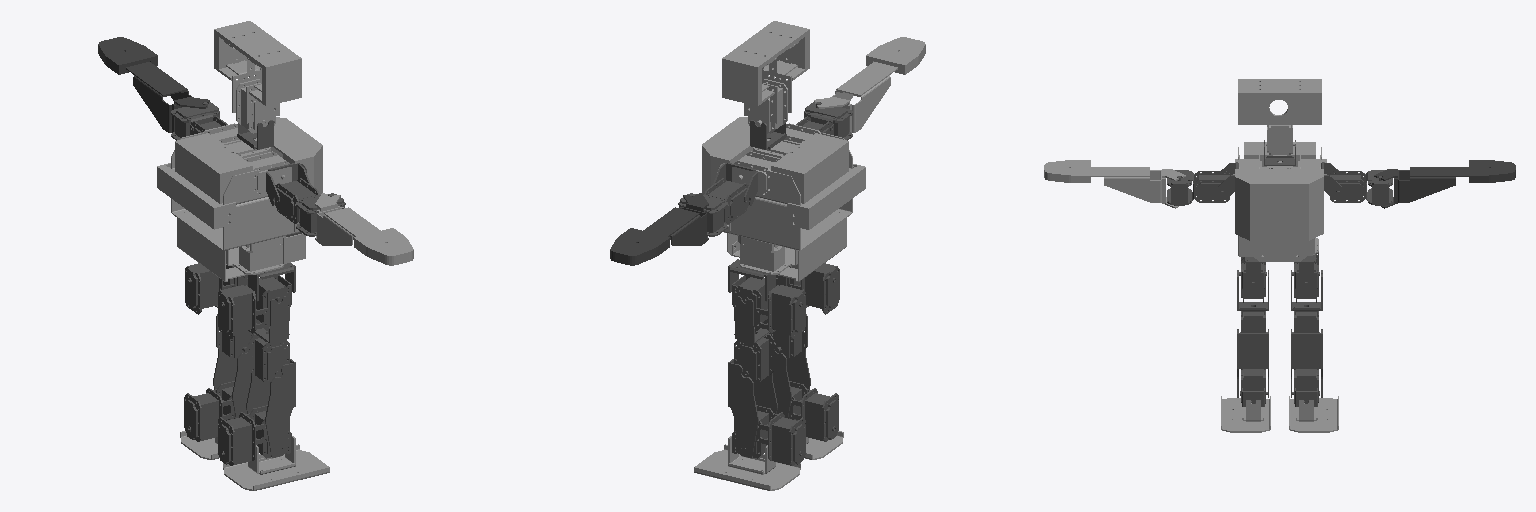
--- Render facts (derived) ---
The picture shows the robot from 3 angles, left to right: view 1: azimuth 30°, elevation 25°; view 2: azimuth 150°, elevation 25°; view 3: azimuth 270°, elevation 25°; orthographic projection.
Robot: darwin — 22 links, 21 joints (20 revolute, 1 fixed); root link base_link; default pose: every joint at zero.
Links seen in each view (by area): view 1: body, head, leftArmLower, rightArmLower, rightPelvis, rightFoot, rightAnkle, rightTibia, rightThigh, leftAnkle, rightArmUpper, leftPelvis (+7 smaller); view 2: body, head, rightArmLower, leftArmLower, leftPelvis, leftFoot, leftAnkle, leftTibia, leftThigh, rightAnkle, leftArmUpper, rightPelvis (+7 smaller); view 3: body, head, leftArmLower, rightArmLower, leftArmUpper, rightArmUpper, leftFoot, rightFoot, leftTibia, rightTibia, leftThigh, rightThigh (+4 smaller).
Boxes of the visible links, left/top/right/bottom form: body: left=157, top=117, right=322, bottom=281; head: left=214, top=21, right=301, bottom=133; leftArmLower: left=98, top=37, right=209, bottom=132; rightArmLower: left=315, top=193, right=413, bottom=265; rightPelvis: left=218, top=275, right=291, bottom=338; rightFoot: left=223, top=436, right=329, bottom=490; rightAnkle: left=218, top=405, right=291, bottom=465; rightTibia: left=246, top=359, right=295, bottom=452; rightThigh: left=250, top=296, right=289, bottom=383; leftAnkle: left=184, top=381, right=235, bottom=441; rightArmUpper: left=275, top=178, right=345, bottom=236; leftPelvis: left=185, top=263, right=247, bottom=314; body: left=702, top=117, right=865, bottom=281; head: left=722, top=21, right=809, bottom=133; rightArmLower: left=814, top=37, right=925, bottom=132; leftArmLower: left=610, top=193, right=708, bottom=265; leftPelvis: left=732, top=275, right=805, bottom=338; leftFoot: left=694, top=436, right=800, bottom=490; leftAnkle: left=732, top=405, right=805, bottom=465; leftTibia: left=728, top=359, right=777, bottom=452; leftThigh: left=734, top=296, right=773, bottom=383; rightAnkle: left=788, top=381, right=838, bottom=441; leftArmUpper: left=678, top=178, right=748, bottom=236; rightPelvis: left=776, top=263, right=839, bottom=314; body: left=1233, top=142, right=1326, bottom=261; head: left=1238, top=79, right=1321, bottom=154; leftArmLower: left=1374, top=160, right=1515, bottom=208; rightArmLower: left=1044, top=160, right=1185, bottom=208; leftArmUpper: left=1330, top=170, right=1392, bottom=205; rightArmUpper: left=1167, top=170, right=1229, bottom=205; leftFoot: left=1289, top=396, right=1338, bottom=432; rightFoot: left=1221, top=396, right=1270, bottom=432; leftTibia: left=1291, top=329, right=1322, bottom=397; rightTibia: left=1237, top=329, right=1268, bottom=397; leftThigh: left=1291, top=270, right=1322, bottom=332; rightThigh: left=1237, top=270, right=1268, bottom=332.
Size in the robot's own frame: 0.1551 by 0.665 by 0.5147 metres.
21 mesh visuals loaded from 21 distinct referenced files (21 Collada DAE).

robot.urdf — darwin:
<?xml version="1.0" ?>
<robot name="darwin">
<self_collide value="false" />

  <link name="base_link"/>
  
  <joint name="base_link_to_body" type="fixed">
    <parent link="base_link"/>
    <child link="body"/>
  </joint>

<link name="body">
<inertial>
<origin xyz="-0.0529 -0.01689 0.00113" />
<mass value="1.2687" />
<inertia ixx="0.00533164" ixy="0.00203182" ixz="0.000164179" iyy="0.00310818" iyz="-0.000254602" izz="0.00637878" />
</inertial>
<visual>
<origin xyz="0 0 0" rpy="0 0 0" />
<geometry>
<mesh filename="./meshes/chape/body.dae" scale="1 1 1" />
</geometry>
</visual>
<collision>
<origin xyz="-0.0295 0 -0.00185" />
<geometry>
<box size="0.083 0.1095 0.0393" />
</geometry>
</collision>
<collision>
<origin xyz="-0.0235 0 -0.03585" />
<geometry>
<box size="0.102 0.1022 0.0287" />
</geometry>
</collision>
<collision>
<origin xyz="-0.0208 0 -0.06908" />
<geometry>
<box size="0.0966 0.0992 0.03775" />
</geometry>
</collision>
</link>

<link name="neck">
<inertial>
<origin xyz="-0.000712811 0.00142428 0.0124324" />
<mass value="0.0243577" />
<inertia ixx="1.13798e-05" ixy="-2.4729e-08" ixz="-1.92231e-07" iyy="5.14111e-06" iyz="-5.75303e-07" izz="8.19157e-06" />
</inertial>
<visual>
<origin xyz="0 0 0.029" rpy="0 0 0" />
<geometry>
<mesh filename="./meshes/chape/neck.dae" scale="1 1 1" />
</geometry>
</visual>
<collision>
<origin xyz="0 0 0.01525" />
<geometry>
<box size="0.022 0.045 0.0325" />
</geometry>
</collision>
</link>

<link name="head">
<inertial>
<origin xyz="0.00766662 6.39198e-05 0.0185645" />
<mass value="0.158042" />
<inertia ixx="0.000115836" ixy="-7.64598e-08" ixz="1.21992e-05" iyy="0.000123968" iyz="7.84944e-07" izz="0.000117838" />
</inertial>
<visual>
<origin xyz="0 0 0" rpy="0 0 0" />
<geometry>
<mesh filename="./meshes/chape/head.dae" scale="1 1 1" />
</geometry>
</visual>
<collision>
<origin xyz="0 0 0.0105" />
<geometry>
<box size="0.0356 0.0355 0.045" />
</geometry>
</collision>
<collision>
<origin xyz="0 0 0.0662" />
<geometry>
<box size="0.0428 0.098 0.049" />
</geometry>
</collision>
</link>

<link name="leftShoulder">
<inertial>
<origin xyz="0.00139357 0.0118774 -0.00573595" />
<mass value="0.025913" />
<inertia ixx="5.4768e-06" ixy="-4.51743e-07" ixz="3.3407e-07" iyy="9.77582e-06" iyz="1.69118e-06" izz="1.05111e-05" />
</inertial>
<visual>
<origin xyz="0 0.0254 -0.016" rpy="0 0 0" />
<geometry>
<mesh filename="./meshes/chape/left_shoulder.dae" scale="1 1 1" />
</geometry>
</visual>
<collision>
<origin xyz="0 0.01725 -0.0065" />
<geometry>
<box size="0.045 0.0327 0.0377" />
</geometry>
</collision>
</link>

<link name="leftArmUpper">
<inertial>
<origin xyz="0.000734065 0.036239 0.000659787" />
<mass value="0.168377" />
<inertia ixx="0.000113408" ixy="-1.82514e-06" ixz="-8.81434e-07" iyy="3.80884e-05" iyz="2.08126e-06" izz="0.000122028" />
</inertial>
<visual>
<origin xyz="0 0 0" rpy="1.5708 0 0" />
<geometry>
<mesh filename="./meshes/chape/left_arm_upper.dae" scale="1 1 1" />
</geometry>
</visual>
<collision>
<origin xyz="0 0.01385 0" />
<geometry>
<box size="0.0355 0.0517 0.0356" />
</geometry>
</collision>
<collision>
<origin xyz="0.0027 0.05875 0" />
<geometry>
<box size="0.0506 0.0356 0.0355" />
</geometry>
</collision>
</link>

<link name="leftArmLower">
<inertial>
<origin xyz="-0.0134901 0.0458382 0.00666564" />
<mass value="0.0592885" />
<inertia ixx="8.68455e-05" ixy="6.48559e-06" ixz="4.36361e-07" iyy="2.11921e-05" iyz="-5.30203e-06" izz="8.68553e-05" />
</inertial>
<visual>
<origin xyz="0 0 0" rpy="1.5708 0 0" />
<geometry>
<mesh filename="./meshes/chape/left_arm_lower.dae" scale="1 1 1" />
</geometry>
</visual>
<collision>
<origin xyz="-0.016 0.106 0.02478" />
<geometry>
<box size="0.035 0.166 0.012" />
</geometry>
</collision>
</link>

<link name="rightShoulder">
<inertial>
<origin xyz="0.00139357 -0.0118774 -0.00573595" />
<mass value="0.025913" />
<inertia ixx="5.4768e-06" ixy="4.51743e-07" ixz="3.3407e-07" iyy="9.77582e-06" iyz="-1.69118e-06" izz="1.05111e-05" />
</inertial>
<visual>
<origin xyz="0 -0.0254 -0.016" rpy="0 0 0" />
<geometry>
<mesh filename="./meshes/chape/right_shoulder.dae" scale="1 1 1" />
</geometry>
</visual>
<collision>
<origin xyz="0 -0.01725 -0.0065" />
<geometry>
<box size="0.045 0.0327 0.0377" />
</geometry>
</collision>
</link>

<link name="rightArmUpper">
<inertial>
<origin xyz="0.000734065 -0.036239 0.000659787" />
<mass value="0.168377" />
<inertia ixx="0.000113408" ixy="1.82514e-06" ixz="-8.81434e-07" iyy="3.80884e-05" iyz="-2.08126e-06" izz="0.000122028" />
</inertial>
<visual>
<origin xyz="0 -0 0" rpy="-1.5708 0 0" />
<geometry>
<mesh filename="./meshes/chape/right_arm_upper.dae" scale="1 1 1" />
</geometry>
</visual>
<collision>
<origin xyz="0 -0.01385 0" />
<geometry>
<box size="0.0355 0.0517 0.0356" />
</geometry>
</collision>
<collision>
<origin xyz="0.0027 -0.05875 0" />
<geometry>
<box size="0.0506 0.0356 0.0355" />
</geometry>
</collision>
</link>

<link name="rightArmLower">
<inertial>
<origin xyz="-0.0134901 -0.0458382 0.00666564" />
<mass value="0.0592885" />
<inertia ixx="8.68455e-05" ixy="-6.48559e-06" ixz="4.36361e-07" iyy="2.11921e-05" iyz="5.30203e-06" izz="8.68553e-05" />
</inertial>
<visual>
<origin xyz="0 -0 0" rpy="-1.5708 0 0" />
<geometry>
<mesh filename="./meshes/chape/right_arm_lower.dae" scale="1 1 1" />
</geometry>
</visual>
<collision>
<origin xyz="-0.016 -0.106 0.02478" />
<geometry>
<box size="0.035 0.166 0.012" />
</geometry>
</collision>
</link>

<link name="leftPelvisY">
<inertial>
<origin xyz="0.00323013 0 -0.0120628" />
<mass value="0.0270692" />
<inertia ixx="6.18255e-06" ixy="0" ixz="-7.335e-07" iyy="1.50191e-05" iyz="0" izz="1.13288e-05" />
</inertial>
<visual>
<origin xyz="0.00275 0 -0.0305" rpy="0 0 0" />
<geometry>
<mesh filename="./meshes/chape/left_pelvis_y.dae" scale="1 1 1" />
</geometry>
</visual>
<collision>
<origin xyz="0.00275 0 -0.016" />
<geometry>
<box size="0.0505 0.027 0.034" />
</geometry>
</collision>
</link>

<link name="leftPelvis">
<inertial>
<origin xyz="-0.0182424 7.99828e-05 -0.0138731" />
<mass value="0.167108" />
<inertia ixx="4.18777e-05" ixy="8.11439e-07" ixz="-7.16355e-06" iyy="0.000122597" iyz="7.11275e-07" izz="0.000110666" />
</inertial>
<visual>
<origin xyz="0 0 0" rpy="0 0 0" />
<geometry>
<mesh filename="./meshes/chape/left_pelvis.dae" scale="1 1 1" />
</geometry>
</visual>
<collision>
<origin xyz="-0.02147 0 -0.0133" />
<geometry>
<box size="0.07855 0.0356 0.0506" />
</geometry>
</collision>
</link>

<link name="leftThigh">
<inertial>
<origin xyz="0.000691906 -0.000322635 -0.0629655" />
<mass value="0.119043" />
<inertia ixx="0.000114935" ixy="-2.1223e-07" ixz="-1.9474e-06" iyy="9.79503e-05" iyz="1.21194e-06" izz="3.28483e-05" />
</inertial>
<visual>
<origin xyz="0 0 0" rpy="0 0 0" />
<geometry>
<mesh filename="./meshes/chape/left_thigh.dae" scale="1 1 1" />
</geometry>
</visual>
<collision>
<origin xyz="0 0 -0.02435" />
<geometry>
<box size="0.025 0.045 0.0537" />
</geometry>
</collision>
<collision>
<origin xyz="7e-05 0 -0.0781" />
<geometry>
<box size="0.0356 0.0355 0.0538" />
</geometry>
</collision>
</link>

<link name="leftTibia">
<inertial>
<origin xyz="0.00654763 -0.000592469 -0.0390455" />
<mass value="0.0703098" />
<inertia ixx="0.000113515" ixy="-2.39921e-07" ixz="-1.28585e-05" iyy="9.33696e-05" iyz="-9.35674e-07" izz="4.62955e-05" />
</inertial>
<visual>
<origin xyz="0 0 -0.093" rpy="0 0 0" />
<geometry>
<mesh filename="./meshes/chape/left_tibia.dae" scale="1 1 1" />
</geometry>
</visual>
<collision>
<origin xyz="0.00181 0 -0.04275" />
<geometry>
<box size="0.03938 0.045 0.1055" />
</geometry>
</collision>
</link>

<link name="leftAnkle">
<inertial>
<origin xyz="-0.0185361 -0.000213732 0.0138731" />
<mass value="0.167108" />
<inertia ixx="4.18711e-05" ixy="-3.93222e-07" ixz="7.07701e-06" iyy="0.000120792" iyz="-7.97811e-07" izz="0.000108855" />
</inertial>
<visual>
<origin xyz="0 0 0" rpy="0 0 0" />
<geometry>
<mesh filename="./meshes/chape/left_ankle.dae" scale="1 1 1" />
</geometry>
</visual>
<collision>
<origin xyz="-0.02147 0 0.0133" />
<geometry>
<box size="0.07855 0.0356 0.0506" />
</geometry>
</collision>
</link>

<link name="leftFoot">
<inertial>
<origin xyz="0.00224712 0.00950588 -0.0259953" />
<mass value="0.0794462" />
<inertia ixx="3.58408e-05" ixy="2.18696e-07" ixz="9.76205e-07" iyy="6.83256e-05" iyz="2.53305e-06" izz="8.78905e-05" />
</inertial>
<visual>
<origin xyz="0.00275 0 0" rpy="0 0 0" />
<geometry>
<mesh filename="./meshes/chape/left_foot.dae" scale="1 1 1" />
</geometry>
</visual>
<collision>
<origin xyz="0.00275 0 -0.0145" />
<geometry>
<box size="0.0505 0.027 0.034" />
</geometry>
</collision>
<collision>
<origin xyz="0.00275 0.013 -0.0445" />
<geometry>
<box size="0.13 0.07 0.026" />
</geometry>
</collision>
</link>

<link name="rightPelvisY">
<inertial>
<origin xyz="0.00323013 0 -0.0120628" />
<mass value="0.0270692" />
<inertia ixx="6.18255e-06" ixy="0" ixz="-7.335e-07" iyy="1.50191e-05" iyz="0" izz="1.13288e-05" />
</inertial>
<visual>
<origin xyz="0.00275 -0 -0.0305" rpy="0 0 0" />
<geometry>
<mesh filename="./meshes/chape/right_pelvis_y.dae" scale="1 1 1" />
</geometry>
</visual>
<collision>
<origin xyz="0.00275 -0 -0.016" />
<geometry>
<box size="0.0505 0.027 0.034" />
</geometry>
</collision>
</link>

<link name="rightPelvis">
<inertial>
<origin xyz="-0.0182424 -7.99828e-05 -0.0138731" />
<mass value="0.167108" />
<inertia ixx="4.18777e-05" ixy="-8.11439e-07" ixz="-7.16355e-06" iyy="0.000122597" iyz="-7.11275e-07" izz="0.000110666" />
</inertial>
<visual>
<origin xyz="0 -0 0" rpy="0 0 0" />
<geometry>
<mesh filename="./meshes/chape/right_pelvis.dae" scale="1 1 1" />
</geometry>
</visual>
<collision>
<origin xyz="-0.02147 -0 -0.0133" />
<geometry>
<box size="0.07855 0.0356 0.0506" />
</geometry>
</collision>
</link>

<link name="rightThigh">
<inertial>
<origin xyz="0.000691906 0.000322635 -0.0629655" />
<mass value="0.119043" />
<inertia ixx="0.000114935" ixy="2.1223e-07" ixz="-1.9474e-06" iyy="9.79503e-05" iyz="-1.21194e-06" izz="3.28483e-05" />
</inertial>
<visual>
<origin xyz="0 -0 0" rpy="0 0 0" />
<geometry>
<mesh filename="./meshes/chape/right_thigh.dae" scale="1 1 1" />
</geometry>
</visual>
<collision>
<origin xyz="0 -0 -0.02435" />
<geometry>
<box size="0.025 0.045 0.0537" />
</geometry>
</collision>
<collision>
<origin xyz="7e-05 -0 -0.0781" />
<geometry>
<box size="0.0356 0.0355 0.0538" />
</geometry>
</collision>
</link>

<link name="rightTibia">
<inertial>
<origin xyz="0.00654763 0.000592469 -0.0390455" />
<mass value="0.0703098" />
<inertia ixx="0.000113515" ixy="2.39921e-07" ixz="-1.28585e-05" iyy="9.33696e-05" iyz="9.35674e-07" izz="4.62955e-05" />
</inertial>
<visual>
<origin xyz="0 -0 -0.093" rpy="0 0 0" />
<geometry>
<mesh filename="./meshes/chape/right_tibia.dae" scale="1 1 1" />
</geometry>
</visual>
<collision>
<origin xyz="0.00181 -0 -0.04275" />
<geometry>
<box size="0.03938 0.045 0.1055" />
</geometry>
</collision>
</link>

<link name="rightAnkle">
<inertial>
<origin xyz="-0.0185361 0.000213732 0.0138731" />
<mass value="0.167108" />
<inertia ixx="4.18711e-05" ixy="3.93222e-07" ixz="7.07701e-06" iyy="0.000120792" iyz="7.97811e-07" izz="0.000108855" />
</inertial>
<visual>
<origin xyz="0 -0 0" rpy="0 0 0" />
<geometry>
<mesh filename="./meshes/chape/right_ankle.dae" scale="1 1 1" />
</geometry>
</visual>
<collision>
<origin xyz="-0.02147 -0 0.0133" />
<geometry>
<box size="0.07855 0.0356 0.0506" />
</geometry>
</collision>
</link>

<link name="rightFoot">
<inertial>
<origin xyz="0.00224712 -0.00950588 -0.0259953" />
<mass value="0.0794462" />
<inertia ixx="3.58408e-05" ixy="-2.18696e-07" ixz="9.76205e-07" iyy="6.83256e-05" iyz="-2.53305e-06" izz="8.78905e-05" />
</inertial>
<visual>
<origin xyz="0.00275 -0 0" rpy="0 0 0" />
<geometry>
<mesh filename="./meshes/chape/right_foot.dae" scale="1 1 1" />
</geometry>
</visual>
<collision>
<origin xyz="0.00275 -0 -0.0145" />
<geometry>
<box size="0.0505 0.027 0.034" />
</geometry>
</collision>
<collision>
<origin xyz="0.00275 -0.013 -0.0445" />
<geometry>
<box size="0.13 0.07 0.026" />
</geometry>
</collision>
</link>

<joint name="neckYaw" type="revolute">
<parent link="body" />
<child link="neck" />
<origin xyz="0 0 0.0217" />
<axis xyz="0 0 1" />
<limit effort="2.5" velocity="6" lower="-3.14159" upper="3.14159" />
<dynamics damping="0.432154" friction="0.0" />
</joint>

<joint name="neckPitch" type="revolute">
<parent link="neck" />
<child link="head" />
<origin xyz="0 0 0.029" rpy="0.0 0.0 0.0" />
<axis xyz="0 1 0" />
<limit effort="2.5" velocity="6" lower="-3.14159" upper="3.14159" />
<dynamics damping="0.432154" friction="0.0" />
</joint>

<joint name="leftShoulderPitch" type="revolute">
<parent link="body" />
<child link="leftShoulder" />
<origin xyz="0 0.0566 0" />
<axis xyz="0 1 0" />
<limit effort="2.5" velocity="6" lower="-3.14159" upper="3.14159" />
<dynamics damping="0.432154" friction="0.0" />
</joint>

<joint name="leftShoulderYaw" type="revolute">
<parent link="leftShoulder" />
<child link="leftArmUpper" />
<origin xyz="0 0.0254 -0.016" />
<axis xyz="1 0 0" />
<limit effort="2.5" velocity="6" lower="-3.14159" upper="3.14159" />
<dynamics damping="0.432154" friction="0.0" />
</joint>

<joint name="leftElbowYaw" type="revolute">
<parent link="leftArmUpper" />
<child link="leftArmLower" />
<origin xyz="0.016 0.06 0" />
<axis xyz="0 0 1" />
<limit effort="2.5" velocity="6" lower="-3.14159" upper="3.14159" />
<dynamics damping="0.432154" friction="0.0" />
</joint>

<joint name="rightShoulderPitch" type="revolute">
<parent link="body" />
<child link="rightShoulder" />
<origin xyz="0 -0.0566 0" />
<axis xyz="0 1 0" />
<limit effort="2.5" velocity="6" lower="-3.14159" upper="3.14159" />
<dynamics damping="0.432154" friction="0.0" />
</joint>

<joint name="rightShoulderYaw" type="revolute">
<parent link="rightShoulder" />
<child link="rightArmUpper" />
<origin xyz="0 -0.0254 -0.016" />
<axis xyz="1 0 0" />
<limit effort="2.5" velocity="6" lower="-3.14159" upper="3.14159" />
<dynamics damping="0.432154" friction="0.0" />
</joint>

<joint name="rightElbowYaw" type="revolute">
<parent link="rightArmUpper" />
<child link="rightArmLower" />
<origin xyz="0.016 -0.06 0" />
<axis xyz="0 0 1" />
<limit effort="2.5" velocity="6" lower="-3.14159" upper="3.14159" />
<dynamics damping="0.432154" friction="0.0" />
</joint>

<joint name="leftHipYaw" type="revolute">
<parent link="body" />
<child link="leftPelvisY" />
<origin xyz="-0.0037 0.0375 -0.12335" />
<axis xyz="0 0 1" />
<limit effort="2.5" velocity="6" lower="-3.14159" upper="3.14159" />
<dynamics damping="0.432154" friction="0.0" />
</joint>

<joint name="leftHipRoll" type="revolute">
<parent link="leftPelvisY" />
<child link="leftPelvis" />
<origin xyz="0 0 -0.0305" />
<axis xyz="1 0 0" />
<limit effort="2.5" velocity="6" lower="-3.14159" upper="3.14159" />
<dynamics damping="0.432154" friction="0.0" />
</joint>

<joint name="leftHipPitch" type="revolute">
<parent link="leftPelvis" />
<child link="leftThigh" />
<origin xyz="0 0 0" />
<axis xyz="0 1 0" />
<limit effort="2.5" velocity="6" lower="-3.14159" upper="3.14159" />
<dynamics damping="0.432154" friction="0.0" />
</joint>

<joint name="leftKneePitch" type="revolute">
<parent link="leftThigh" />
<child link="leftTibia" />
<origin xyz="0 0 -0.093" />
<axis xyz="0 1 0" />
<limit effort="2.5" velocity="6" lower="-3.14159" upper="3.14159" />
<dynamics damping="0.432154" friction="0.0" />
</joint>

<joint name="leftAnklePitch" type="revolute">
<parent link="leftTibia" />
<child link="leftAnkle" />
<origin xyz="0 0 -0.093" />
<axis xyz="0 1 0" />
<limit effort="2.5" velocity="6" lower="-3.14159" upper="3.14159" />
<dynamics damping="0.432154" friction="0.0" />
</joint>

<joint name="leftAnkleRoll" type="revolute">
<parent link="leftAnkle" />
<child link="leftFoot" />
<origin xyz="0 0 0" />
<axis xyz="1 0 0" />
<limit effort="2.5" velocity="6" lower="-3.14159" upper="3.14159" />
<dynamics damping="0.432154" friction="0.0" />
</joint>

<joint name="rightHipYaw" type="revolute">
<parent link="body" />
<child link="rightPelvisY" />
<origin xyz="-0.0037 -0.0375 -0.12335" />
<axis xyz="0 0 1" />
<limit effort="2.5" velocity="6" lower="-3.14159" upper="3.14159" />
<dynamics damping="0.432154" friction="0.0" />
</joint>

<joint name="rightHipRoll" type="revolute">
<parent link="rightPelvisY" />
<child link="rightPelvis" />
<origin xyz="0 -0 -0.0305" />
<axis xyz="1 0 0" />
<limit effort="2.5" velocity="6" lower="-3.14159" upper="3.14159" />
<dynamics damping="0.432154" friction="0.0" />
</joint>

<joint name="rightHipPitch" type="revolute">
<parent link="rightPelvis" />
<child link="rightThigh" />
<origin xyz="0 -0 0" />
<axis xyz="0 1 0" />
<limit effort="2.5" velocity="6" lower="-3.14159" upper="3.14159" />
<dynamics damping="0.432154" friction="0.0" />
</joint>

<joint name="rightKneePitch" type="revolute">
<parent link="rightThigh" />
<child link="rightTibia" />
<origin xyz="0 -0 -0.093" />
<axis xyz="0 1 0" />
<limit effort="2.5" velocity="6" lower="-3.14159" upper="3.14159" />
<dynamics damping="0.432154" friction="0.0" />
</joint>

<joint name="rightAnklePitch" type="revolute">
<parent link="rightTibia" />
<child link="rightAnkle" />
<origin xyz="0 -0 -0.093" />
<axis xyz="0 1 0" />
<limit effort="2.5" velocity="6" lower="-3.14159" upper="3.14159" />
<dynamics damping="0.432154" friction="0.0" />
</joint>

<joint name="rightAnkleRoll" type="revolute">
<parent link="rightAnkle" />
<child link="rightFoot" />
<origin xyz="0 -0 0" />
<axis xyz="1 0 0" />
<limit effort="2.5" velocity="6" lower="-3.14159" upper="3.14159" />
<dynamics damping="0.432154" friction="0.0" />
</joint>

<gazebo>
<plugin filename="libgazebo_ros_control.so" name="gazebo_ros_control">
<robotNamespace>/darwin</robotNamespace>
</plugin>
</gazebo>

<transmission name="neckYawTransmission">
<type>transmission_interface/SimpleTransmission</type>
<joint name="neckYaw">
<hardwareInterface>EffortJointInterface</hardwareInterface>
</joint>
<actuator name="neckYawActuator">
<hardwareInterface>EffortJointInterface</hardwareInterface>
<mechanicalReduction>1</mechanicalReduction>
</actuator>
</transmission>

<transmission name="neckPitchTransmission">
<type>transmission_interface/SimpleTransmission</type>
<joint name="neckPitch">
<hardwareInterface>EffortJointInterface</hardwareInterface>
</joint>
<actuator name="neckPitchActuator">
<hardwareInterface>EffortJointInterface</hardwareInterface>
<mechanicalReduction>1</mechanicalReduction>
</actuator>
</transmission>

<transmission name="leftShoulderPitchTransmission">
<type>transmission_interface/SimpleTransmission</type>
<joint name="leftShoulderPitch">
<hardwareInterface>EffortJointInterface</hardwareInterface>
</joint>
<actuator name="leftShoulderPitchActuator">
<hardwareInterface>EffortJointInterface</hardwareInterface>
<mechanicalReduction>1</mechanicalReduction>
</actuator>
</transmission>

<transmission name="leftShoulderYawTransmission">
<type>transmission_interface/SimpleTransmission</type>
<joint name="leftShoulderYaw">
<hardwareInterface>EffortJointInterface</hardwareInterface>
</joint>
<actuator name="leftShoulderYawActuator">
<hardwareInterface>EffortJointInterface</hardwareInterface>
<mechanicalReduction>1</mechanicalReduction>
</actuator>
</transmission>

<transmission name="leftElbowYawTransmission">
<type>transmission_interface/SimpleTransmission</type>
<joint name="leftElbowYaw">
<hardwareInterface>EffortJointInterface</hardwareInterface>
</joint>
<actuator name="leftElbowYawActuator">
<hardwareInterface>EffortJointInterface</hardwareInterface>
<mechanicalReduction>1</mechanicalReduction>
</actuator>
</transmission>

<transmission name="rightShoulderPitchTransmission">
<type>transmission_interface/SimpleTransmission</type>
<joint name="rightShoulderPitch">
<hardwareInterface>EffortJointInterface</hardwareInterface>
</joint>
<actuator name="rightShoulderPitchActuator">
<hardwareInterface>EffortJointInterface</hardwareInterface>
<mechanicalReduction>1</mechanicalReduction>
</actuator>
</transmission>

<transmission name="rightShoulderYawTransmission">
<type>transmission_interface/SimpleTransmission</type>
<joint name="rightShoulderYaw">
<hardwareInterface>EffortJointInterface</hardwareInterface>
</joint>
<actuator name="rightShoulderYawActuator">
<hardwareInterface>EffortJointInterface</hardwareInterface>
<mechanicalReduction>1</mechanicalReduction>
</actuator>
</transmission>

<transmission name="rightElbowYawTransmission">
<type>transmission_interface/SimpleTransmission</type>
<joint name="rightElbowYaw">
<hardwareInterface>EffortJointInterface</hardwareInterface>
</joint>
<actuator name="rightElbowYawActuator">
<hardwareInterface>EffortJointInterface</hardwareInterface>
<mechanicalReduction>1</mechanicalReduction>
</actuator>
</transmission>

<transmission name="leftHipYawTransmission">
<type>transmission_interface/SimpleTransmission</type>
<joint name="leftHipYaw">
<hardwareInterface>EffortJointInterface</hardwareInterface>
</joint>
<actuator name="leftHipYawActuator">
<hardwareInterface>EffortJointInterface</hardwareInterface>
<mechanicalReduction>1</mechanicalReduction>
</actuator>
</transmission>

<transmission name="leftHipRollTransmission">
<type>transmission_interface/SimpleTransmission</type>
<joint name="leftHipRoll">
<hardwareInterface>EffortJointInterface</hardwareInterface>
</joint>
<actuator name="leftHipRollActuator">
<hardwareInterface>EffortJointInterface</hardwareInterface>
<mechanicalReduction>1</mechanicalReduction>
</actuator>
</transmission>

<transmission name="leftHipPitchTransmission">
<type>transmission_interface/SimpleTransmission</type>
<joint name="leftHipPitch">
<hardwareInterface>EffortJointInterface</hardwareInterface>
</joint>
<actuator name="leftHipPitchActuator">
<hardwareInterface>EffortJointInterface</hardwareInterface>
<mechanicalReduction>1</mechanicalReduction>
</actuator>
</transmission>

<transmission name="leftKneePitchTransmission">
<type>transmission_interface/SimpleTransmission</type>
<joint name="leftKneePitch">
<hardwareInterface>EffortJointInterface</hardwareInterface>
</joint>
<actuator name="leftKneePitchActuator">
<hardwareInterface>EffortJointInterface</hardwareInterface>
<mechanicalReduction>1</mechanicalReduction>
</actuator>
</transmission>

<transmission name="leftAnklePitchTransmission">
<type>transmission_interface/SimpleTransmission</type>
<joint name="leftAnklePitch">
<hardwareInterface>EffortJointInterface</hardwareInterface>
</joint>
<actuator name="leftAnklePitchActuator">
<hardwareInterface>EffortJointInterface</hardwareInterface>
<mechanicalReduction>1</mechanicalReduction>
</actuator>
</transmission>

<transmission name="leftAnkleRollTransmission">
<type>transmission_interface/SimpleTransmission</type>
<joint name="leftAnkleRoll">
<hardwareInterface>EffortJointInterface</hardwareInterface>
</joint>
<actuator name="leftAnkleRollActuator">
<hardwareInterface>EffortJointInterface</hardwareInterface>
<mechanicalReduction>1</mechanicalReduction>
</actuator>
</transmission>

<transmission name="rightHipYawTransmission">
<type>transmission_interface/SimpleTransmission</type>
<joint name="rightHipYaw">
<hardwareInterface>EffortJointInterface</hardwareInterface>
</joint>
<actuator name="rightHipYawActuator">
<hardwareInterface>EffortJointInterface</hardwareInterface>
<mechanicalReduction>1</mechanicalReduction>
</actuator>
</transmission>

<transmission name="rightHipRollTransmission">
<type>transmission_interface/SimpleTransmission</type>
<joint name="rightHipRoll">
<hardwareInterface>EffortJointInterface</hardwareInterface>
</joint>
<actuator name="rightHipRollActuator">
<hardwareInterface>EffortJointInterface</hardwareInterface>
<mechanicalReduction>1</mechanicalReduction>
</actuator>
</transmission>

<transmission name="rightHipPitchTransmission">
<type>transmission_interface/SimpleTransmission</type>
<joint name="rightHipPitch">
<hardwareInterface>EffortJointInterface</hardwareInterface>
</joint>
<actuator name="rightHipPitchActuator">
<hardwareInterface>EffortJointInterface</hardwareInterface>
<mechanicalReduction>1</mechanicalReduction>
</actuator>
</transmission>

<transmission name="rightKneePitchTransmission">
<type>transmission_interface/SimpleTransmission</type>
<joint name="rightKneePitch">
<hardwareInterface>EffortJointInterface</hardwareInterface>
</joint>
<actuator name="rightKneePitchActuator">
<hardwareInterface>EffortJointInterface</hardwareInterface>
<mechanicalReduction>1</mechanicalReduction>
</actuator>
</transmission>

<transmission name="rightAnklePitchTransmission">
<type>transmission_interface/SimpleTransmission</type>
<joint name="rightAnklePitch">
<hardwareInterface>EffortJointInterface</hardwareInterface>
</joint>
<actuator name="rightAnklePitchActuator">
<hardwareInterface>EffortJointInterface</hardwareInterface>
<mechanicalReduction>1</mechanicalReduction>
</actuator>
</transmission>

<transmission name="rightAnkleRollTransmission">
<type>transmission_interface/SimpleTransmission</type>
<joint name="rightAnkleRoll">
<hardwareInterface>EffortJointInterface</hardwareInterface>
</joint>
<actuator name="rightAnkleRollActuator">
<hardwareInterface>EffortJointInterface</hardwareInterface>
<mechanicalReduction>1</mechanicalReduction>
</actuator>
</transmission>

</robot>
